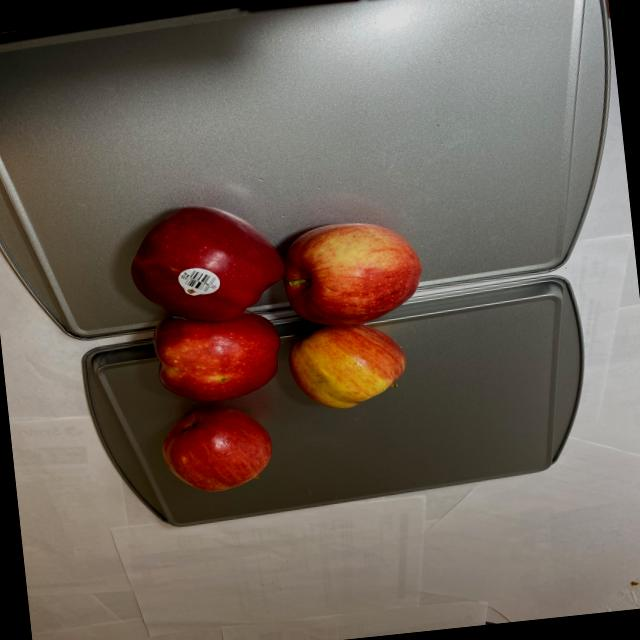apple: (125, 180, 445, 500)
